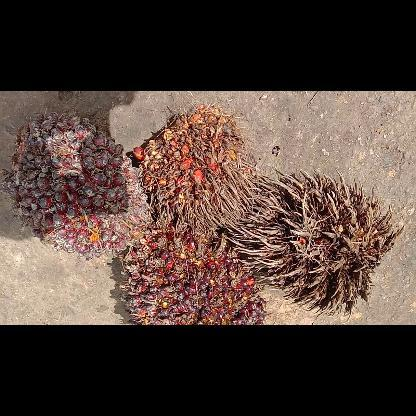Janjang kosong: (218, 169, 402, 318)
Kurang masak: (3, 108, 152, 258)
TBS masak: (116, 212, 268, 324)
Terlalu masak: (132, 101, 258, 235)
